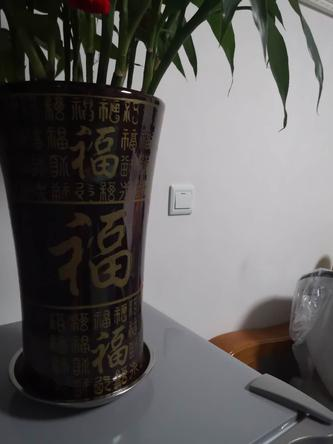switch: (173, 189, 195, 213)
